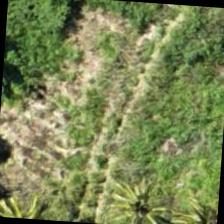Kelapa_Sawit: (97, 161, 192, 223), (0, 169, 85, 223), (164, 169, 221, 223)
